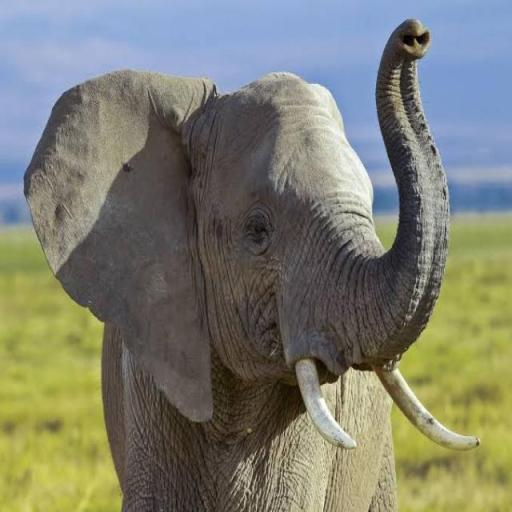Elephant: (22, 17, 480, 511)
